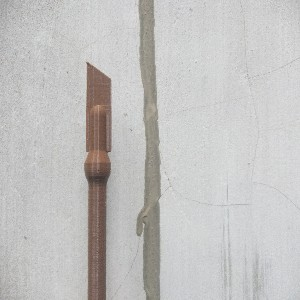cutter: (82, 61, 113, 300)
